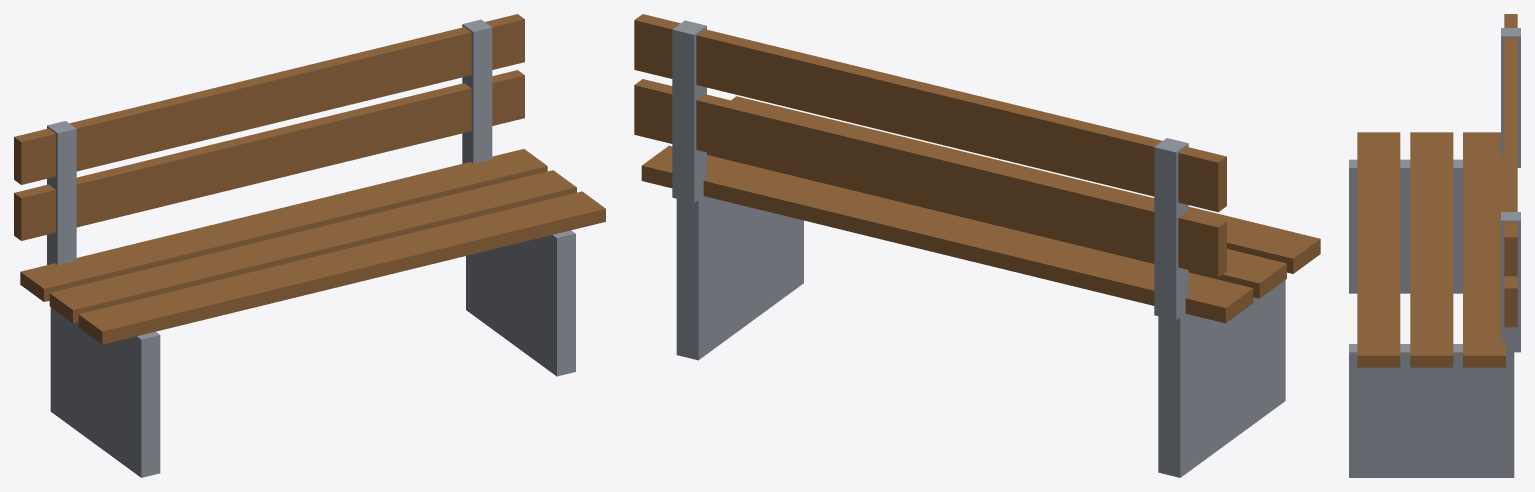
The model's file is p_bench.glb.
3 views of the same model, side by side, from view 1: azimuth 30°, elevation 25°; view 2: azimuth 150°, elevation 25°; view 3: azimuth 270°, elevation 25° (orthographic). The views are drawn at different scales.
Visible parts, largest first — view 1: bench; view 2: bench; view 3: bench.
Part boxes in pixels (left/top/right/bottom): bench: left=14, top=14, right=605, bottom=477; bench: left=634, top=14, right=1320, bottom=477; bench: left=1349, top=14, right=1520, bottom=477.
Size of the model in its own units: 1.6 by 0.86 by 0.52.
